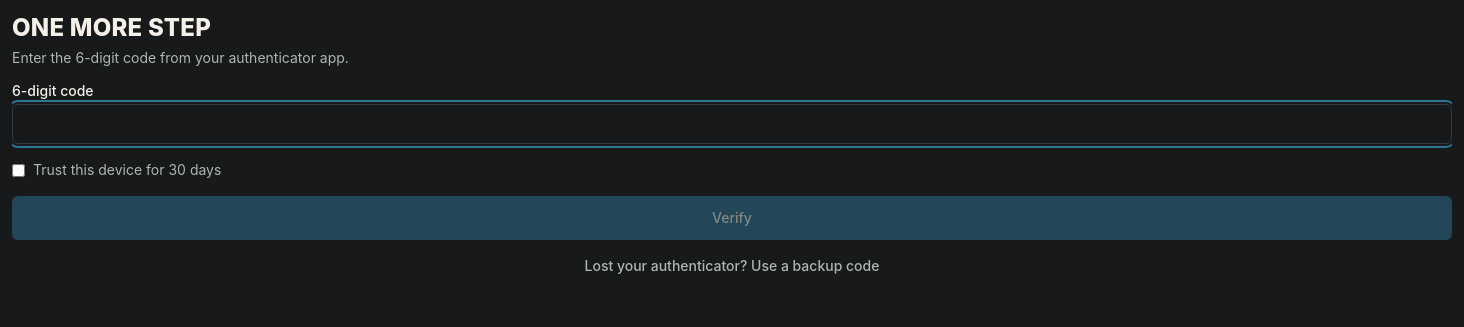
it: backup mode › names the single-use rule when a backup code is refused
The image size is (1464, 327).
Click the button "Lost your authenticator? Use a backup code" at (732,266), box [12,256,1452,276]
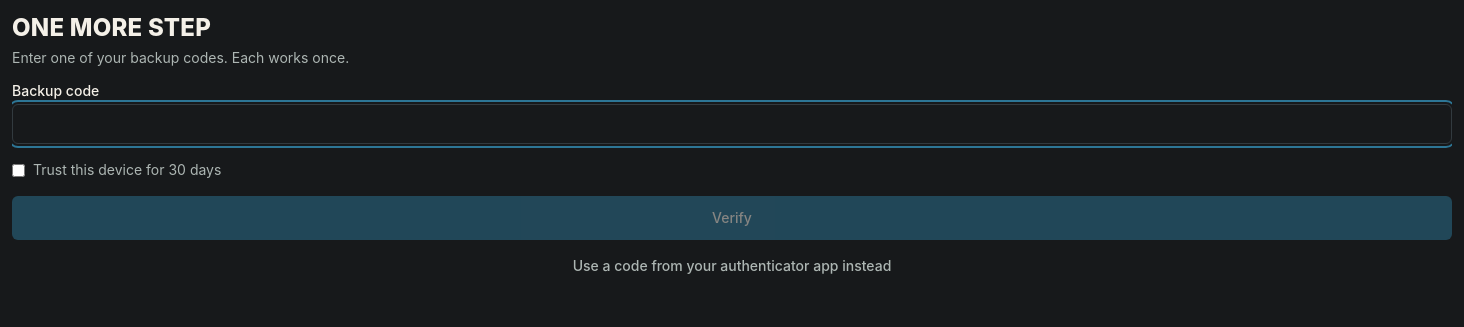
Type "used-code" into the field labelled "Backup code" at (732,124), box [12,104,1452,144]
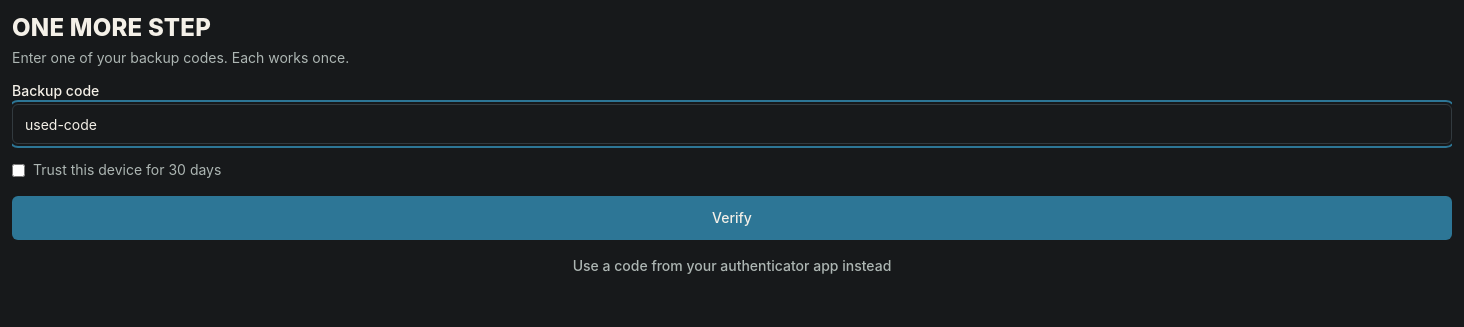
Click the button "Verify" at (732,218), box [12,196,1452,240]
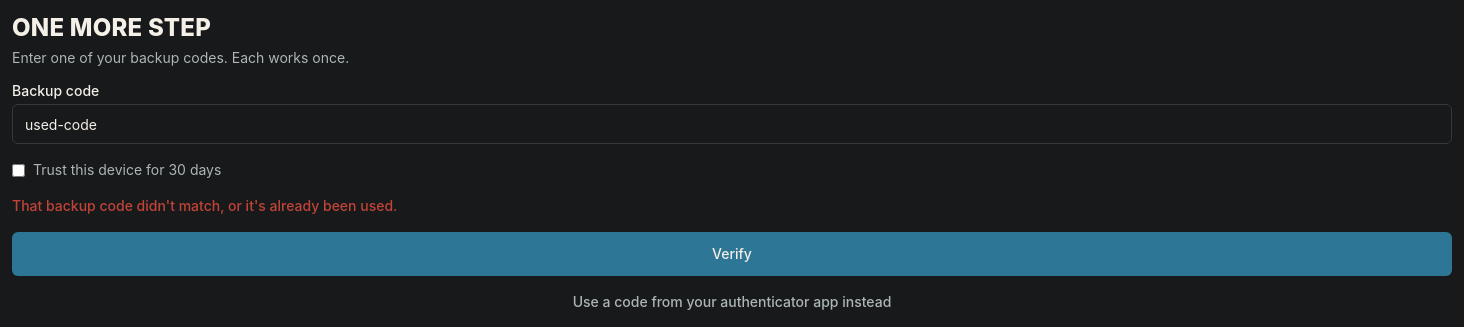
Now the message reads "That backup code didn't match, or it's already been used.", box [12,197,397,214]
